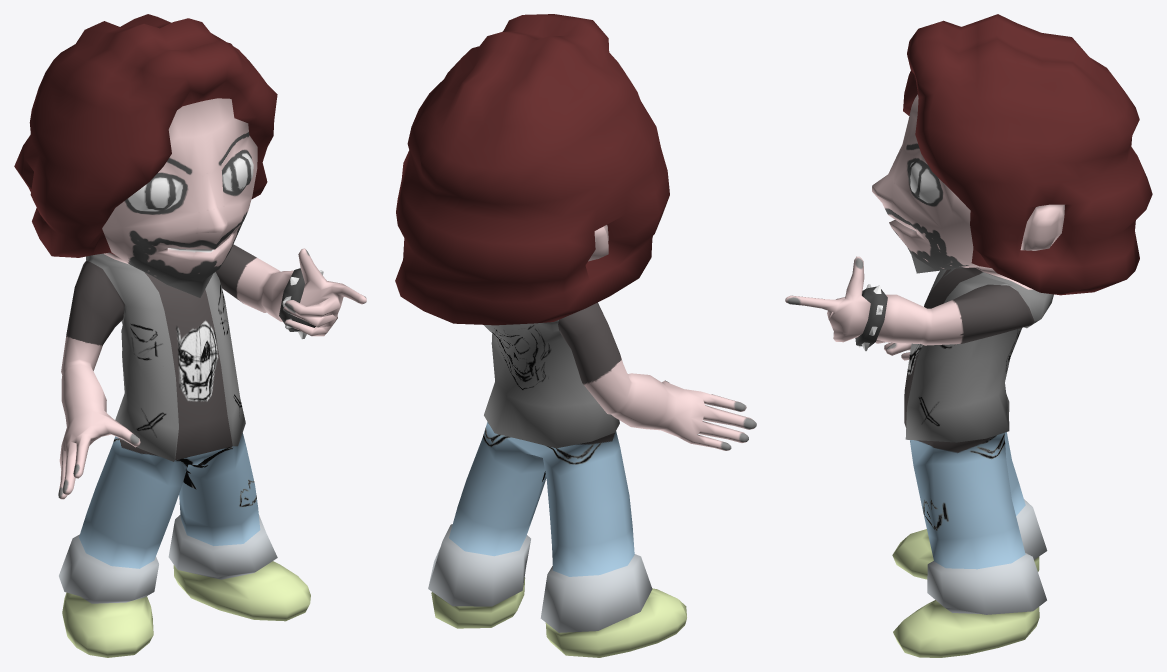
File: rockero_rigging_000074.obj
The picture shows the model from 3 angles, left to right: view 1: azimuth 30°, elevation 25°; view 2: azimuth 150°, elevation 25°; view 3: azimuth 270°, elevation 25°; orthographic projection. The views are drawn at different scales.
Parts seen in each view (by area): view 1: Cylinder.001; view 2: Cylinder.001; view 3: Cylinder.001.
Boxes of the visible parts, bbox=[...] form: Cylinder.001: bbox=[14, 14, 366, 657]; Cylinder.001: bbox=[395, 14, 756, 657]; Cylinder.001: bbox=[785, 14, 1152, 657].
Bounding box in the file's own units: 2.34 × 4.8 × 2.76.
1 material, 1 textured.
